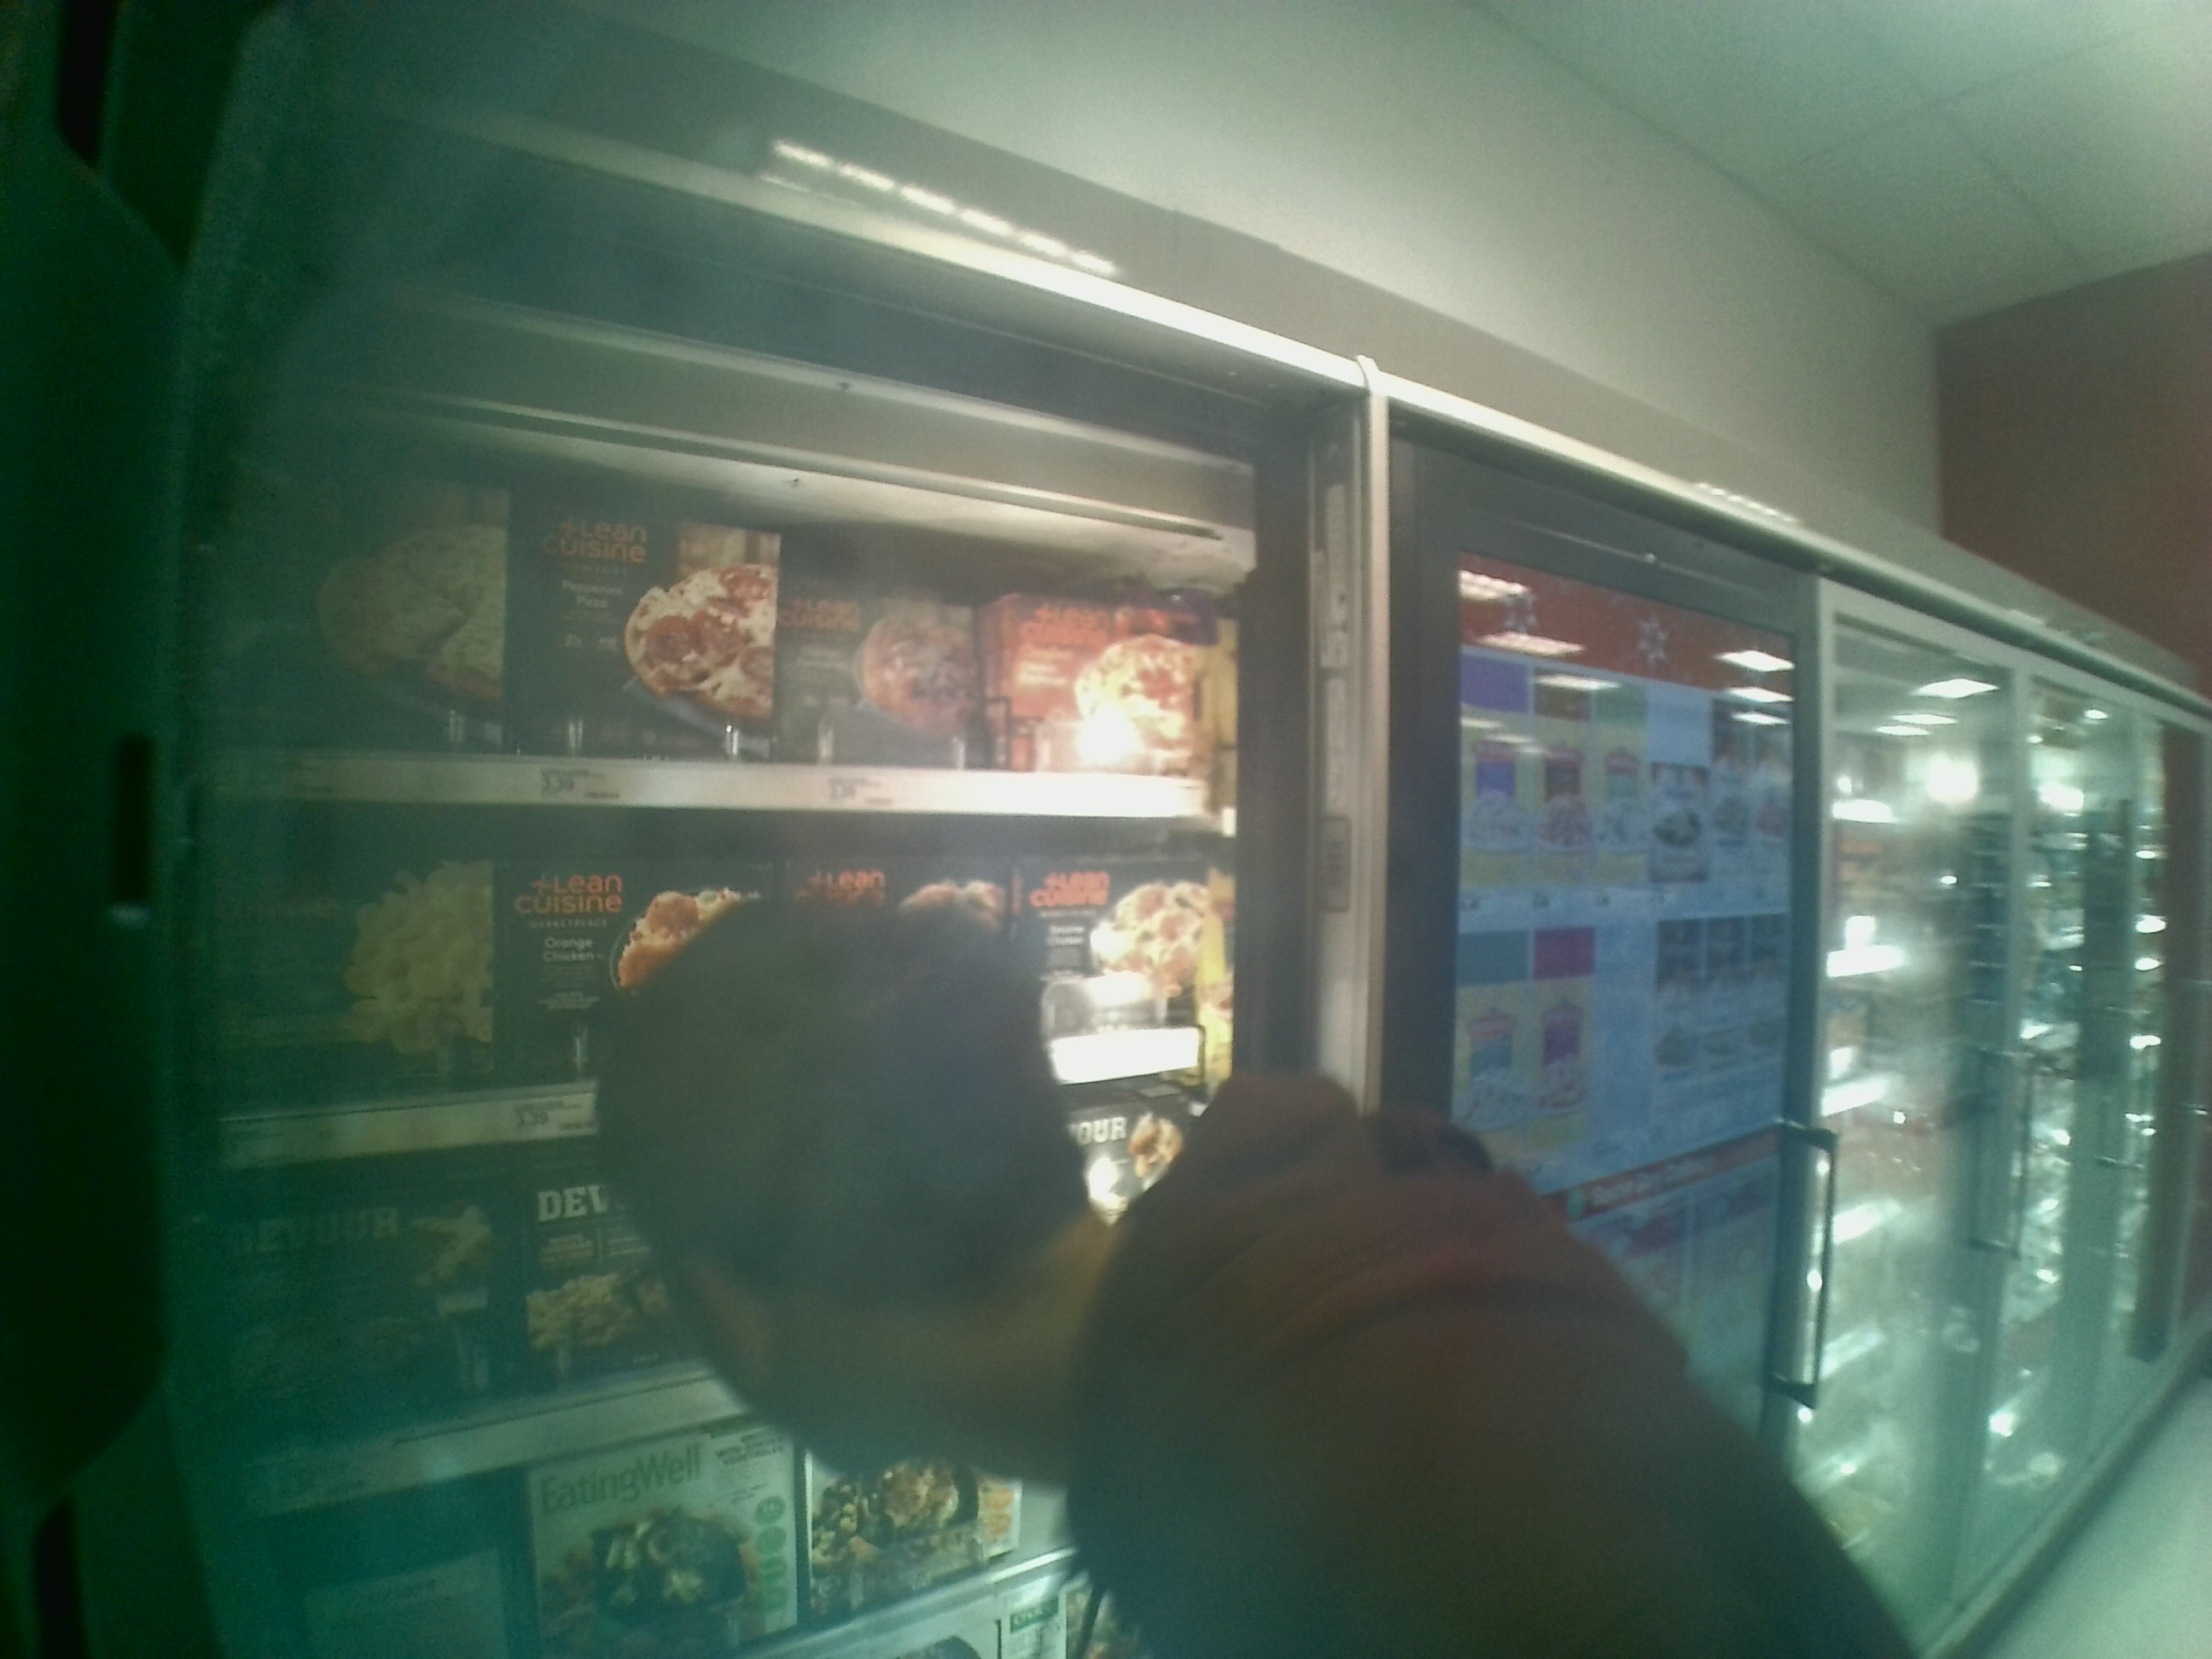pizza: (244, 471, 505, 748), (521, 497, 773, 762), (216, 840, 500, 1070), (232, 1194, 523, 1406), (768, 577, 993, 769), (993, 598, 1211, 772), (1014, 864, 1223, 1025)
